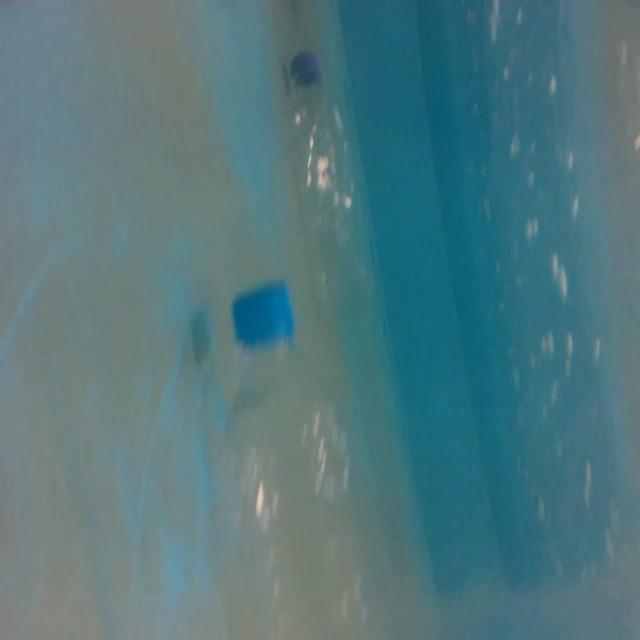plastic bottle: (215, 286, 371, 640), (285, 46, 393, 337)
